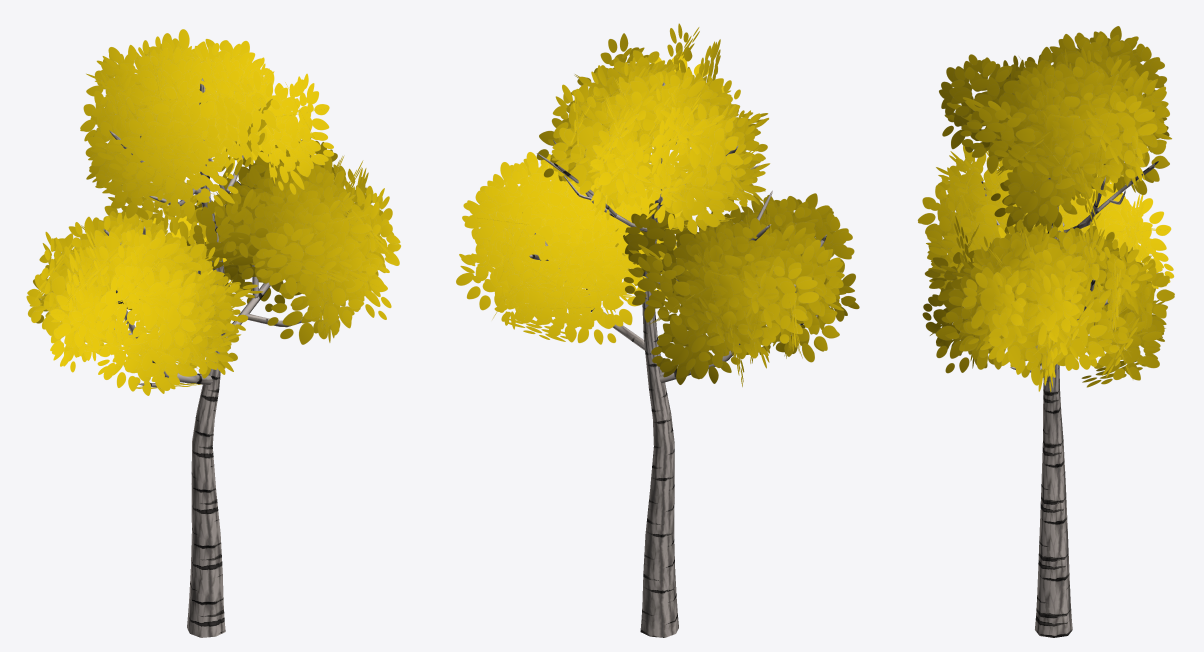
Rendered from BirchTree_4.gltf.
3 views of the same model, side by side, from view 1: azimuth 30°, elevation 25°; view 2: azimuth 150°, elevation 25°; view 3: azimuth 270°, elevation 25° (orthographic).
Parts seen in each view (by area): view 1: BirchTree_4; view 2: BirchTree_4; view 3: BirchTree_4.
Boxes of the visible parts, x1=… form: BirchTree_4: x1=26, y1=29, x2=400, y2=637; BirchTree_4: x1=456, y1=23, x2=859, y2=637; BirchTree_4: x1=917, y1=26, x2=1174, y2=637.
Bounding box in the file's own units: 2.78 × 4.21 × 1.84.
2 materials, 2 textured.
